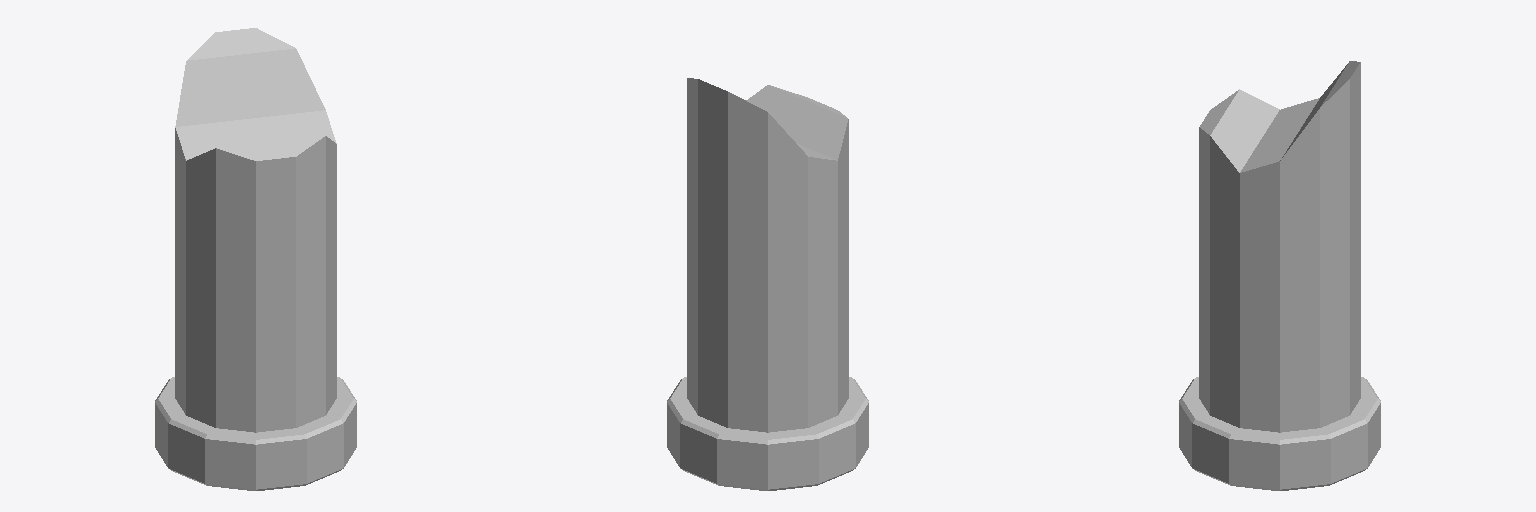
The model's file is column2.obj.
3 views of the same model, side by side, from view 1: azimuth 30°, elevation 25°; view 2: azimuth 150°, elevation 25°; view 3: azimuth 270°, elevation 25° (orthographic).
Visible parts, largest first — view 1: Cylinder2; view 2: Cylinder2; view 3: Cylinder2.
Part boxes in pixels (bbox=[...]): Cylinder2: bbox=[155, 28, 356, 490]; Cylinder2: bbox=[667, 78, 868, 490]; Cylinder2: bbox=[1179, 61, 1380, 490].
Size of the model in its own units: 0.5731 by 1.21 by 0.5731.